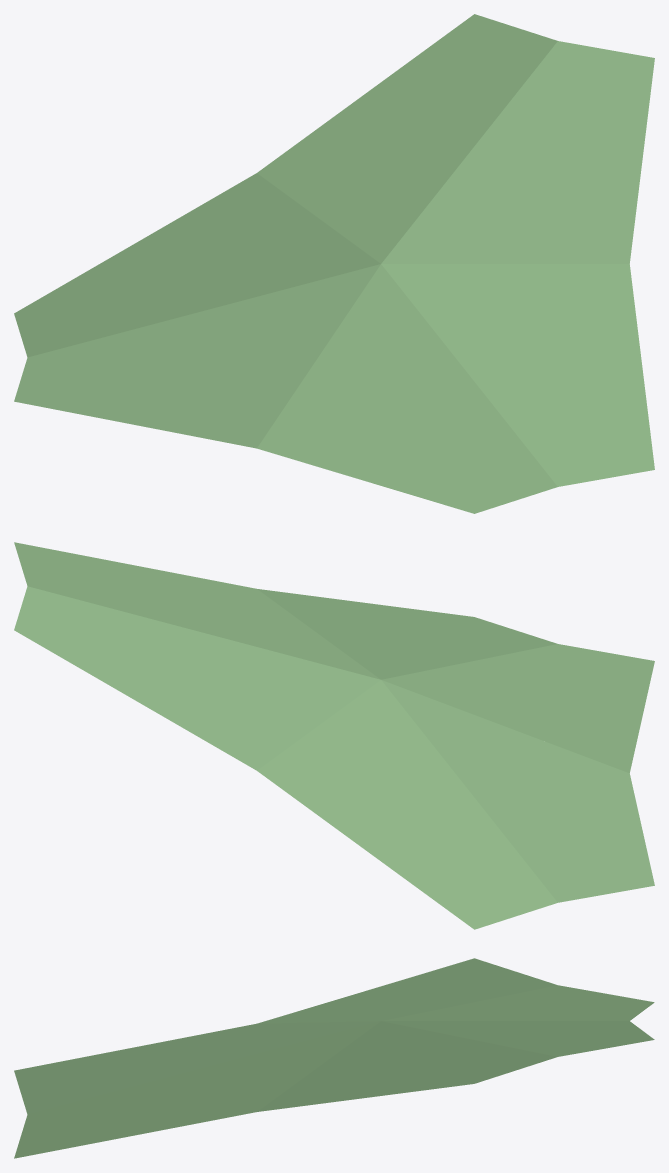
File: 001.EdgeStitch.P0.L_B0.L_P0.O_B0.R_P0.R_B0.0.fbx
3 views of the same model, one above another, from view 1: azimuth 30°, elevation 25°; view 2: azimuth 150°, elevation 25°; view 3: azimuth 270°, elevation 25° (orthographic).
Parts seen in each view (by area): view 1: 001.EdgeStitch.P0.L_B0.L_P0.O_B0.R_P0.R_B0.0; view 2: 001.EdgeStitch.P0.L_B0.L_P0.O_B0.R_P0.R_B0.0; view 3: 001.EdgeStitch.P0.L_B0.L_P0.O_B0.R_P0.R_B0.0.
Part boxes in pixels (x1,y1,x2,y2): 001.EdgeStitch.P0.L_B0.L_P0.O_B0.R_P0.R_B0.0: (14, 14, 654, 513); 001.EdgeStitch.P0.L_B0.L_P0.O_B0.R_P0.R_B0.0: (14, 542, 654, 929); 001.EdgeStitch.P0.L_B0.L_P0.O_B0.R_P0.R_B0.0: (14, 958, 654, 1158).
Bounding box in the file's own units: 0.7168 × 0.6208 × 0.2.
